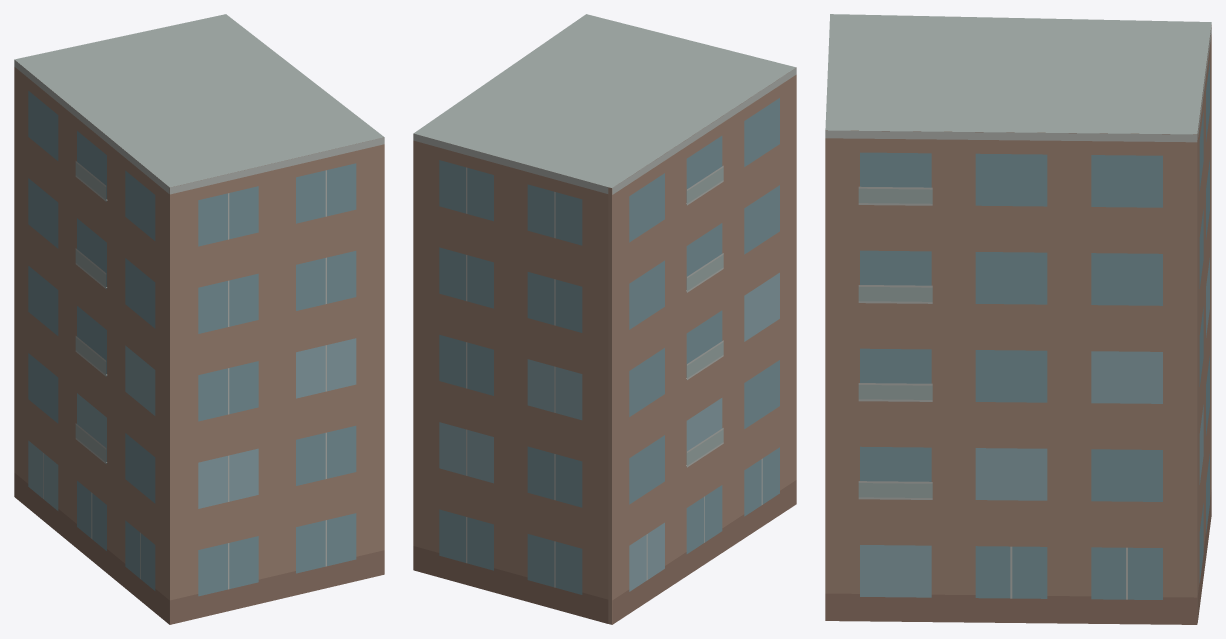
Rendered from survey-upis-32960093.glb.
The picture shows the model from 3 angles, left to right: view 1: azimuth 30°, elevation 25°; view 2: azimuth 150°, elevation 25°; view 3: azimuth 270°, elevation 25°; orthographic projection. The views are drawn at different scales.
Visible parts, largest first — view 1: survey-upis-32960093.tmp; view 2: survey-upis-32960093.tmp; view 3: survey-upis-32960093.tmp.
Part boxes in pixels (x1=…): survey-upis-32960093.tmp: x1=14, y1=14, x2=384, y2=624; survey-upis-32960093.tmp: x1=413, y1=14, x2=796, y2=624; survey-upis-32960093.tmp: x1=825, y1=14, x2=1211, y2=624.
Size of the model in its own units: 8.01 by 15.2 by 10.86.
